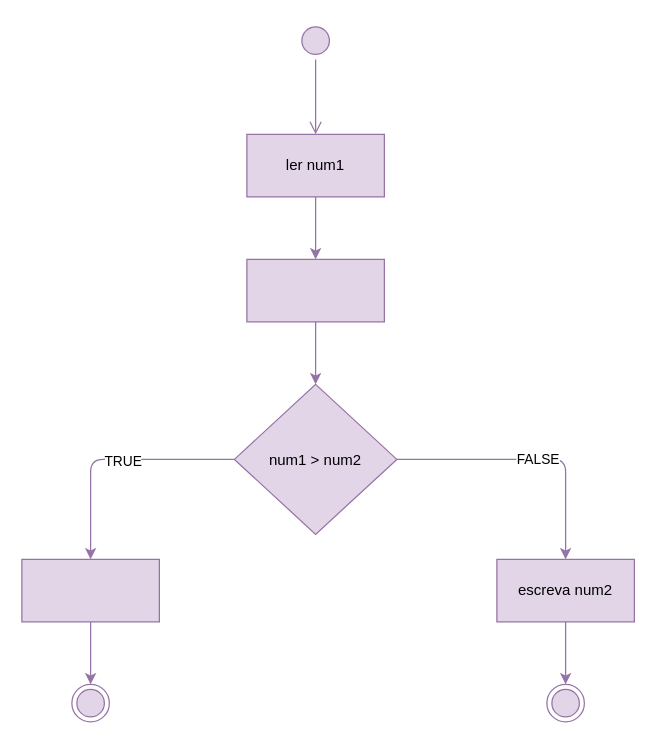
Image size: 656x744. Some labels were removed from this diagram. The shapes that lost their labels are listed below. From the top down, each one's box as (x1, y1, x2, y2) in pixels, then its label:
(246, 258, 384, 322): ler num2
(21, 558, 159, 622): escreva num1
